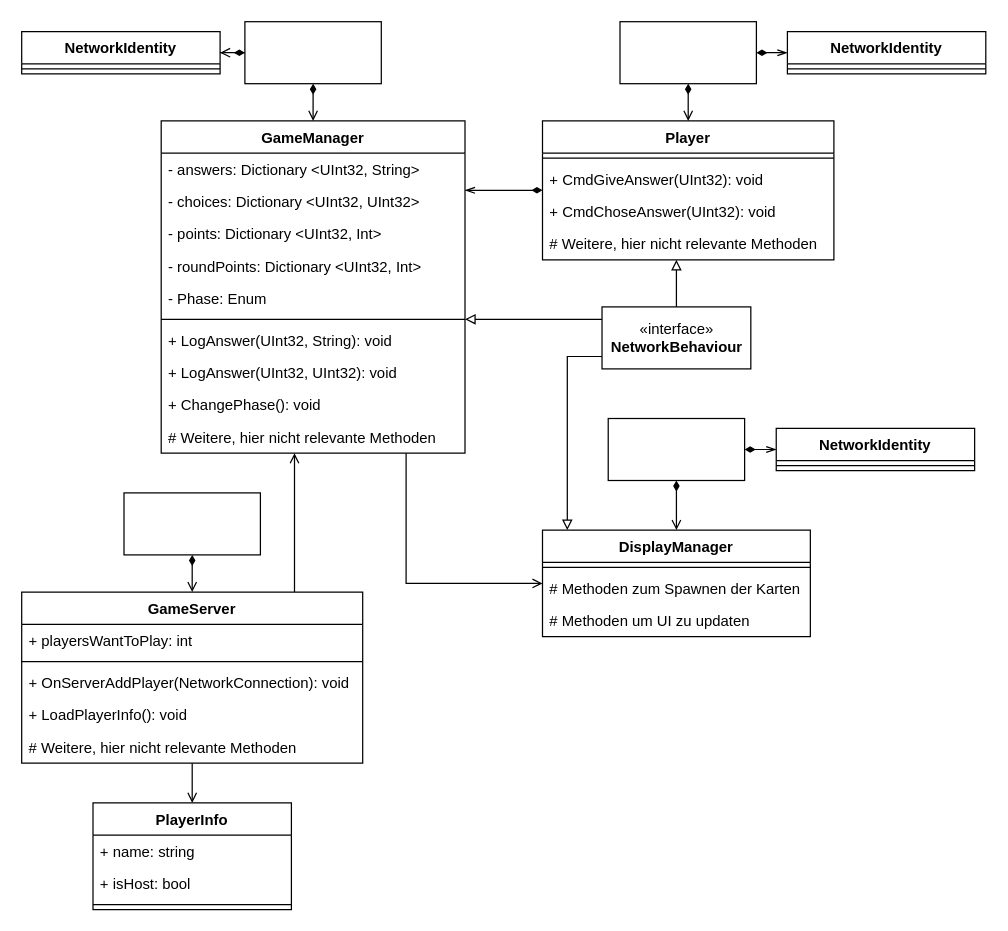
This 1008x931 diagram has some shape labels left out. The centre of each missing label's shape, as x and y in pixels:
«GameObject» DisplayManager: the point at 676,448
«GameObject» GameManager: the point at 312,52
«GameObject» NetworkManager: the point at 191,523
«GameObject» Player: the point at 687,52
